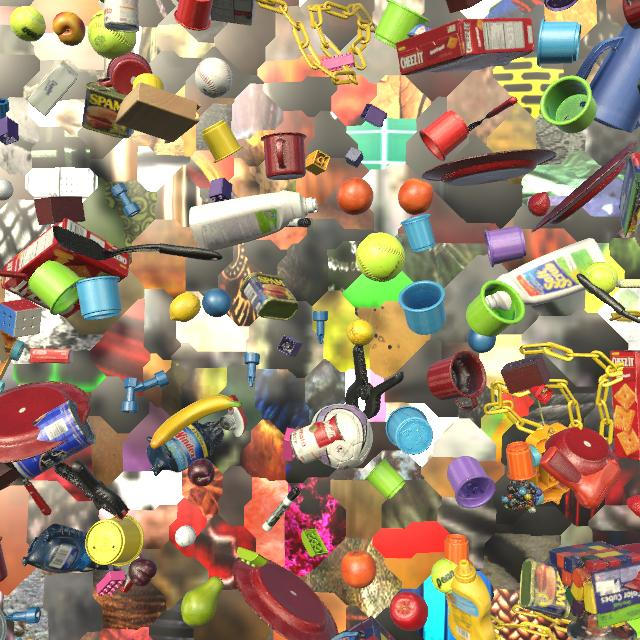ycb_002_master_chef_can: (8, 399, 96, 480), (0, 609, 7, 640)
ycb_003_cracker_box: (1, 218, 130, 318), (396, 18, 534, 75), (610, 350, 640, 461)
ycb_004_sugar_box: (27, 60, 78, 116)
ycb_005_tomato_soup_can: (290, 414, 345, 464), (104, 0, 139, 33)
ycb_006_mustard_bottle: (445, 559, 496, 640)
ycb_007_tuna_fish_can: (406, 23, 432, 38)
ycb_008_pudding_box: (210, 0, 255, 26)
ycb_009_gelatin_box: (30, 348, 73, 363)
ycb_010_potted_meat_can: (519, 558, 571, 620), (240, 272, 299, 321), (82, 82, 132, 139)
ycb_011_banana: (150, 395, 242, 449)
ycb_012_strawberry: (528, 192, 551, 217), (626, 495, 640, 517)
ycb_013_apple: (390, 591, 428, 631)
ycb_014_lemon: (169, 292, 201, 322), (346, 320, 375, 346)
ycb_015_peach: (52, 12, 86, 46)
ycb_016_pear: (181, 576, 224, 626)
ycb_017_orange: (340, 550, 376, 589), (337, 178, 374, 215), (398, 178, 434, 215)
ycb_018_plum: (128, 558, 157, 587), (187, 458, 215, 487)
